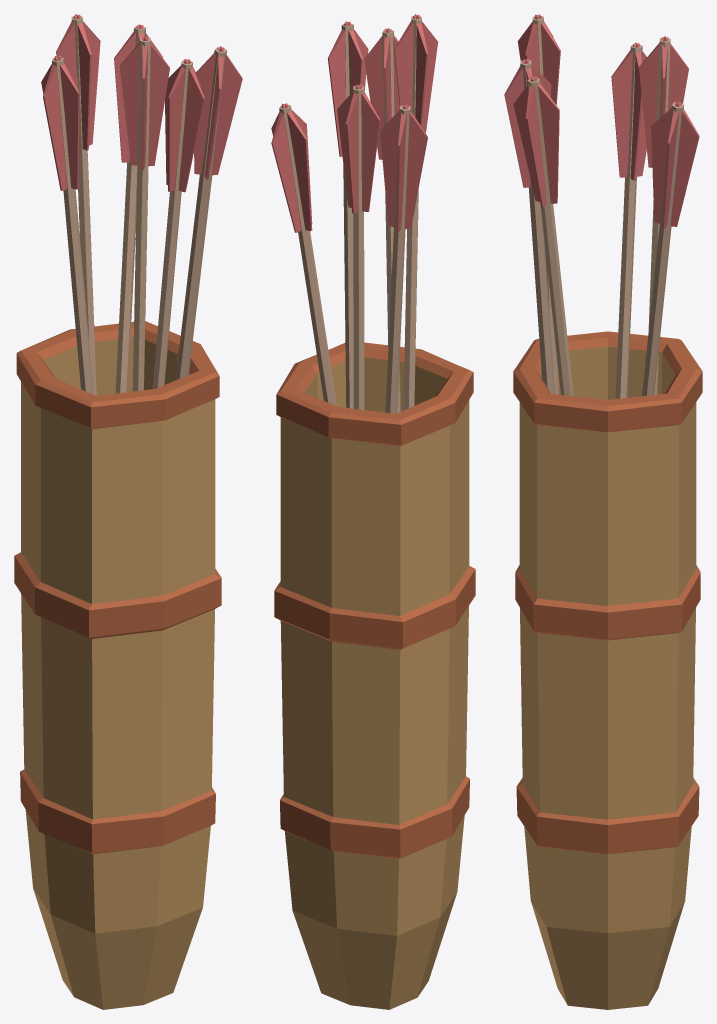
File: aljava.fbx
3 views of the same model, side by side, from view 1: azimuth 30°, elevation 25°; view 2: azimuth 150°, elevation 25°; view 3: azimuth 270°, elevation 25° (orthographic). The views are drawn at different scales.
Parts seen in each view (by area): view 1: pCylinder9; view 2: pCylinder9; view 3: pCylinder9.
Part boxes in pixels (x1,y1,x2,y2): pCylinder9: [14, 14, 242, 1009]; pCylinder9: [271, 14, 475, 1009]; pCylinder9: [504, 14, 702, 1009].
Bounding box in the file's own units: 15.52 × 86.87 × 16.11.
